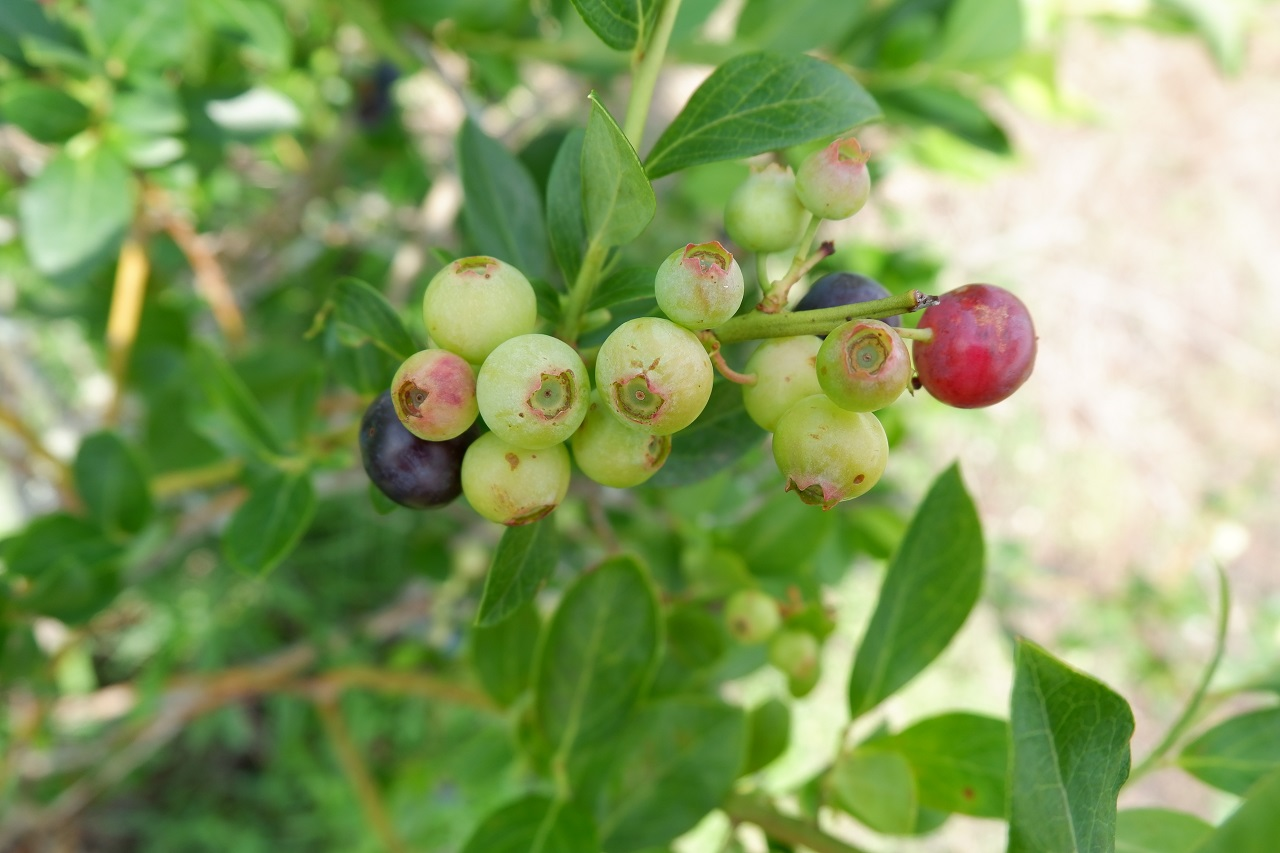Immature: (911, 281, 1039, 410), (595, 317, 714, 437), (772, 393, 889, 511), (477, 333, 592, 450), (423, 256, 537, 366), (462, 431, 571, 527), (572, 387, 672, 488), (816, 318, 910, 412), (390, 347, 479, 442), (723, 162, 814, 254), (740, 334, 824, 431), (654, 242, 744, 332), (795, 137, 871, 220)
Mature: (357, 388, 480, 512), (791, 271, 899, 340)
